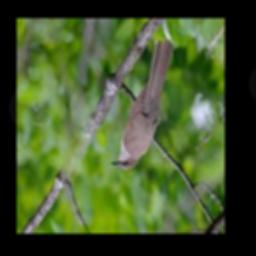Cuckoo: (111, 39, 173, 169)
